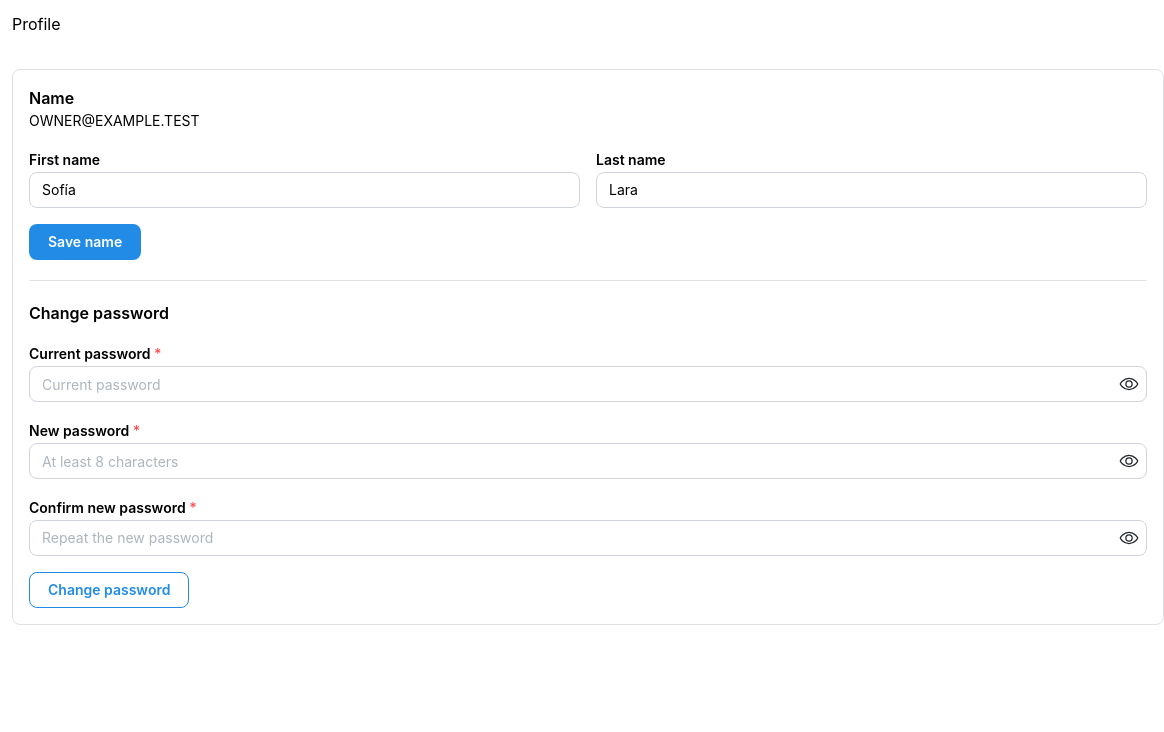
Test: the profile page — the password change › changes the password and clears the fields
Type "current-123" into the password field labelled "Current password *".
click(588, 384); type("current-123")  # box [30, 367, 1146, 401]
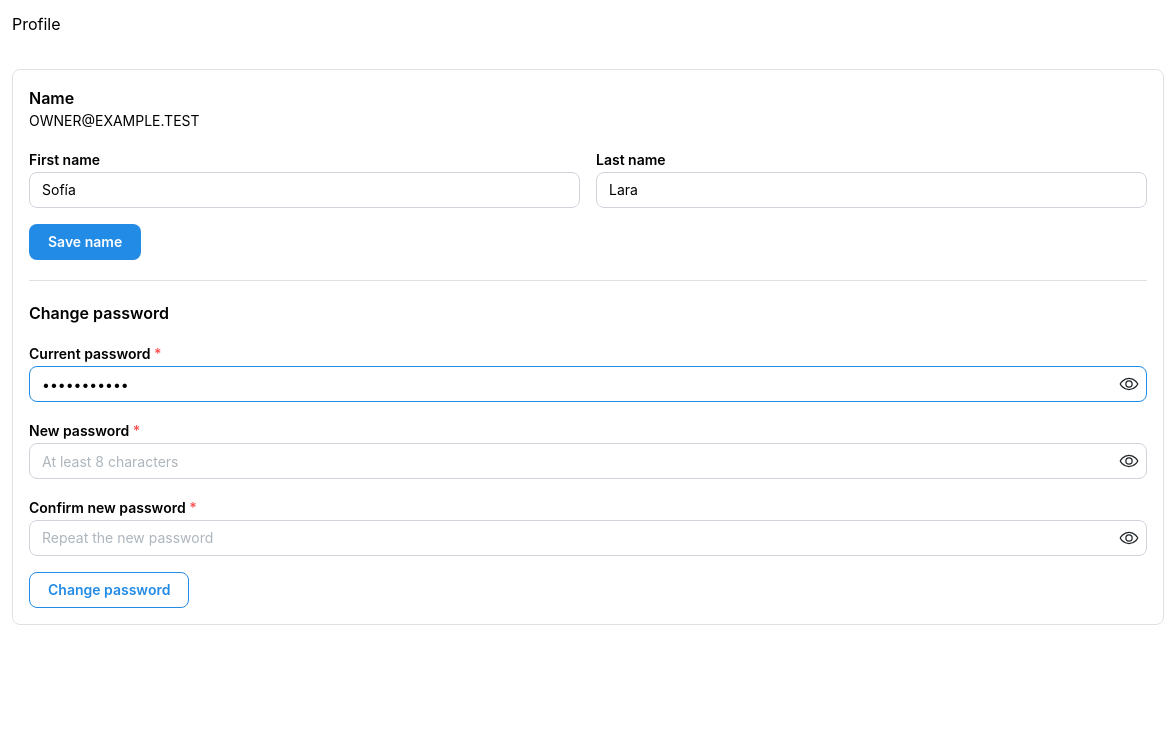
Type "sunlight-123" into the password field labelled "New password *".
click(588, 461); type("sunlight-123")  # box [30, 444, 1146, 478]
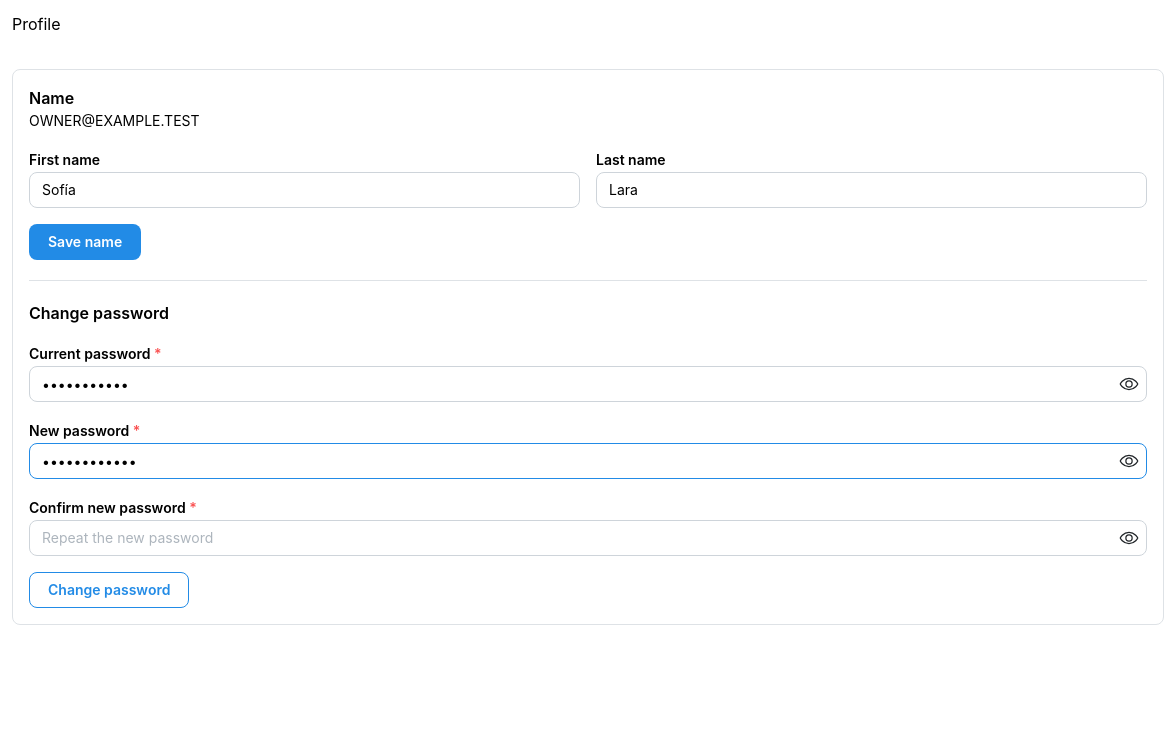
Type "sunlight-123" into the password field labelled "Confirm new password *".
click(588, 538); type("sunlight-123")  # box [30, 521, 1146, 555]
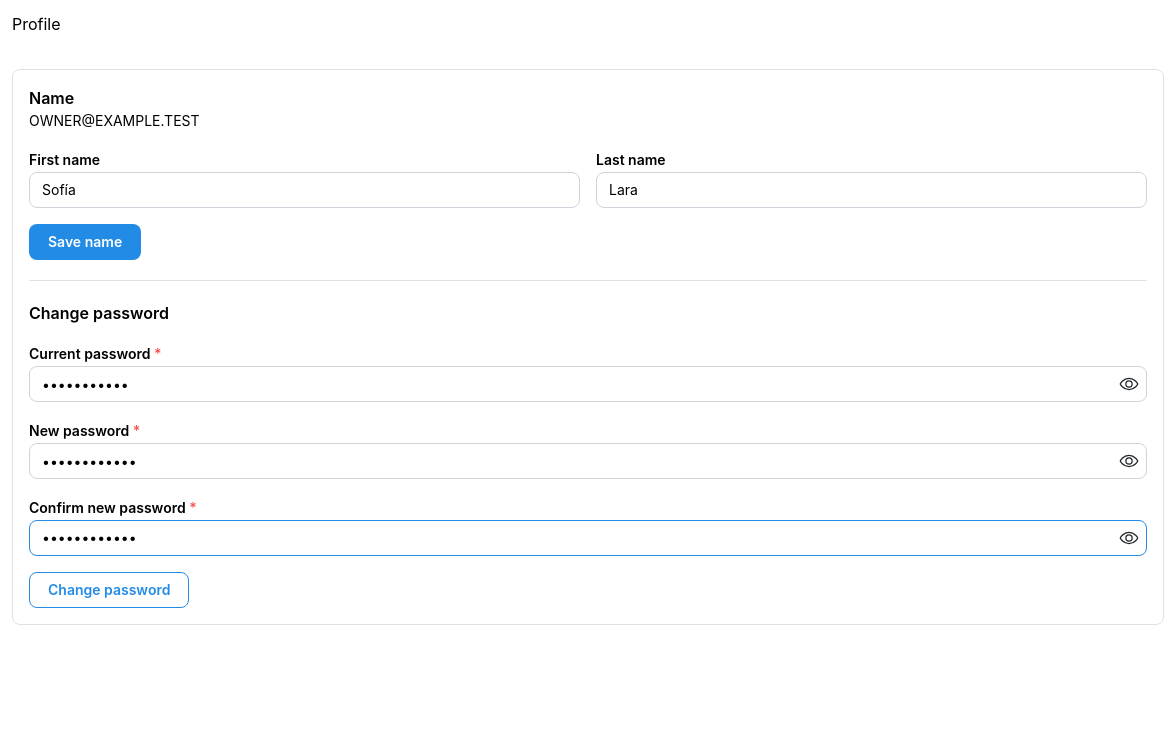
Click the button "Change password".
click(109, 590)  # box [29, 572, 189, 608]
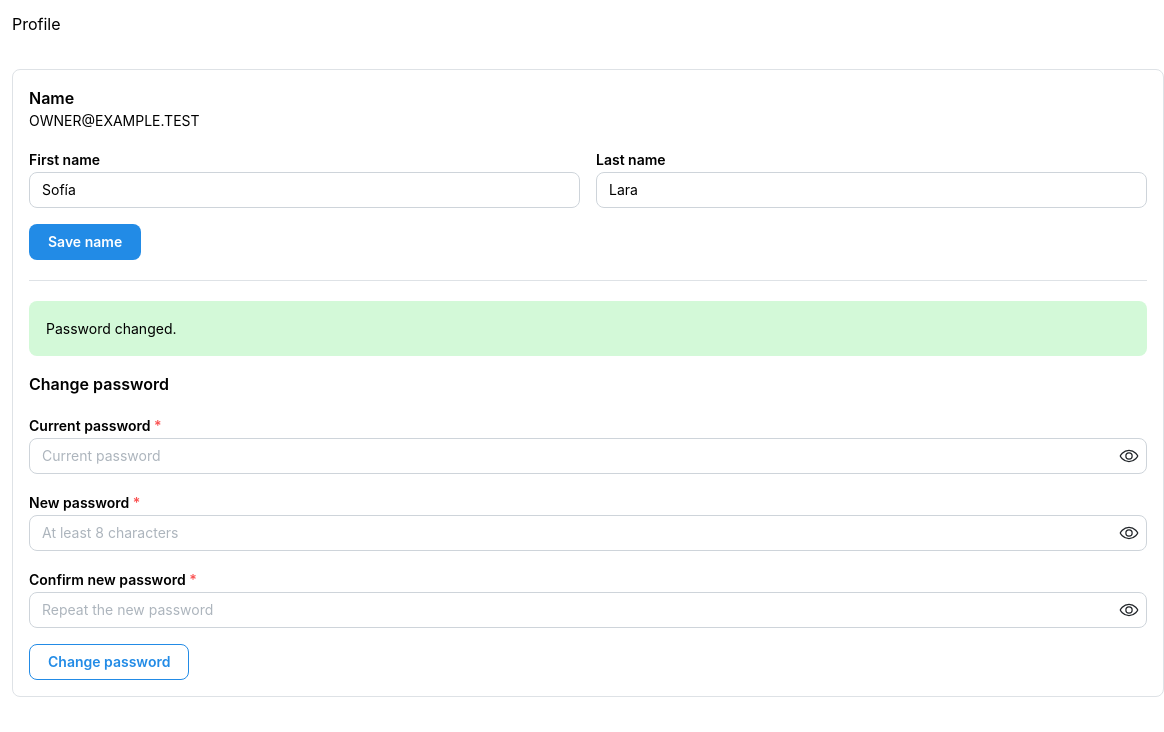
Check: the text "Password changed." is shown, box [46, 320, 176, 337]
Check: the password field labelled "New password *" is empty, box [30, 516, 1146, 550]
Check: the password field labelled "Confirm new password *" is empty, box [30, 593, 1146, 627]
